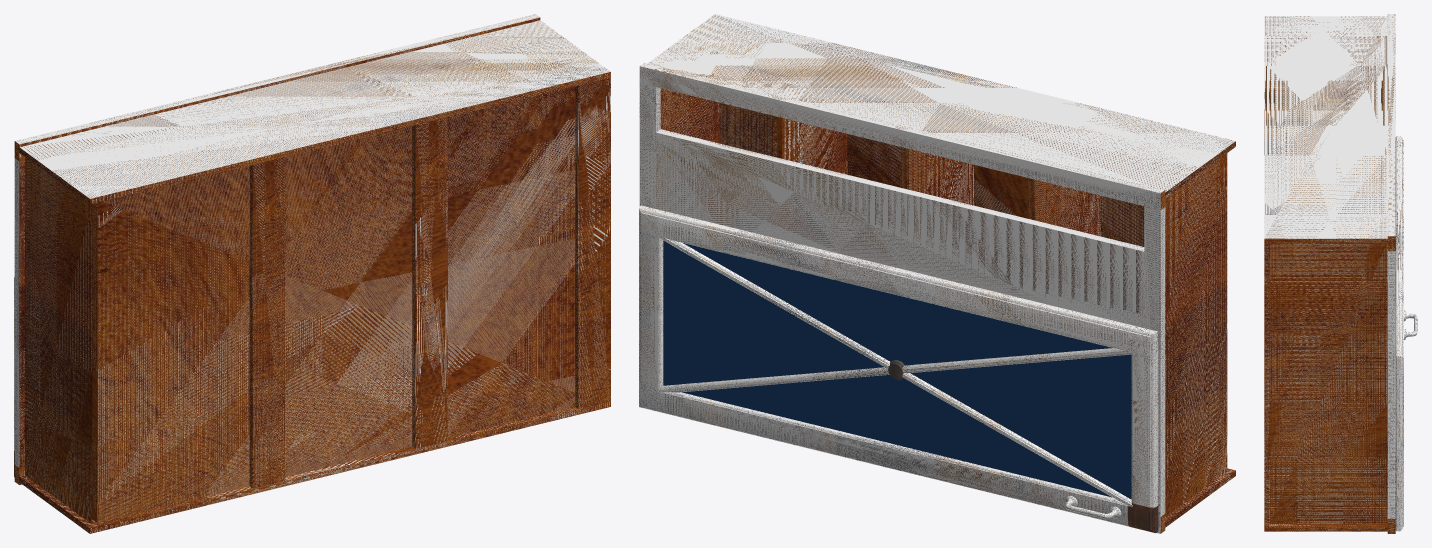
3 views of the same model, side by side, from view 1: azimuth 30°, elevation 25°; view 2: azimuth 150°, elevation 25°; view 3: azimuth 270°, elevation 25° (orthographic). The views are drawn at different scales.
Visible parts, largest first — view 1: mesh6_mesh6-geometry, mesh8_mesh8-geometry, mesh3_mesh3-geometry, mesh1_mesh1-geometry, mesh7_mesh7-geometry, mesh9_mesh9-geometry, mesh4_mesh4-geometry, mesh2_mesh2-geometry, mesh50_mesh50-geometry; view 2: mesh48_mesh48-geometry, mesh11_mesh11-geometry, mesh8_mesh8-geometry, mesh1_mesh1-geometry, mesh20_mesh20-geometry, mesh9_mesh9-geometry, mesh19_mesh19-geometry, mesh12_mesh12-geometry, mesh5_mesh5-geometry, mesh4_mesh4-geometry, mesh46_mesh46-geometry, mesh18_mesh18-geometry (+6 smaller); view 3: mesh2_mesh2-geometry, mesh8_mesh8-geometry, mesh4_mesh4-geometry, mesh9_mesh9-geometry, mesh20_mesh20-geometry, mesh3_mesh3-geometry, mesh17_mesh17-geometry, mesh7_mesh7-geometry, mesh14_mesh14-geometry, mesh21_mesh21-geometry, mesh13_mesh13-geometry.
Boxes of the visible parts, x1=… form: mesh6_mesh6-geometry: x1=97, y1=86, x2=575, y2=523; mesh8_mesh8-geometry: x1=19, y1=20, x2=610, y2=204; mesh3_mesh3-geometry: x1=249, y1=77, x2=610, y2=488; mesh1_mesh1-geometry: x1=25, y1=157, x2=92, y2=524; mesh7_mesh7-geometry: x1=19, y1=401, x2=610, y2=533; mesh9_mesh9-geometry: x1=14, y1=14, x2=540, y2=161; mesh4_mesh4-geometry: x1=14, y1=158, x2=24, y2=467; mesh2_mesh2-geometry: x1=92, y1=203, x2=97, y2=522; mesh50_mesh50-geometry: x1=385, y1=345, x2=411, y2=452; mesh48_mesh48-geometry: x1=663, y1=241, x2=1131, y2=499; mesh11_mesh11-geometry: x1=656, y1=129, x2=1144, y2=327; mesh8_mesh8-geometry: x1=647, y1=14, x2=1235, y2=197; mesh1_mesh1-geometry: x1=660, y1=88, x2=1227, y2=516; mesh20_mesh20-geometry: x1=663, y1=211, x2=1131, y2=350; mesh9_mesh9-geometry: x1=639, y1=63, x2=1165, y2=210; mesh19_mesh19-geometry: x1=663, y1=392, x2=1128, y2=526; mesh12_mesh12-geometry: x1=774, y1=116, x2=1100, y2=236; mesh5_mesh5-geometry: x1=720, y1=103, x2=1144, y2=246; mesh4_mesh4-geometry: x1=639, y1=83, x2=1165, y2=516; mesh46_mesh46-geometry: x1=658, y1=236, x2=1132, y2=506; mesh18_mesh18-geometry: x1=1131, y1=355, x2=1158, y2=507; mesh2_mesh2-geometry: x1=1269, y1=243, x2=1387, y2=524; mesh8_mesh8-geometry: x1=1264, y1=16, x2=1387, y2=243; mesh4_mesh4-geometry: x1=1387, y1=251, x2=1395, y2=518; mesh9_mesh9-geometry: x1=1387, y1=14, x2=1395, y2=250; mesh20_mesh20-geometry: x1=1395, y1=147, x2=1403, y2=348; mesh3_mesh3-geometry: x1=1264, y1=243, x2=1269, y2=526; mesh17_mesh17-geometry: x1=1395, y1=378, x2=1403, y2=508; mesh7_mesh7-geometry: x1=1264, y1=524, x2=1387, y2=531; mesh14_mesh14-geometry: x1=1395, y1=345, x2=1403, y2=379; mesh21_mesh21-geometry: x1=1404, y1=310, x2=1417, y2=339; mesh13_mesh13-geometry: x1=1395, y1=507, x2=1403, y2=531.
Bounding box in the file's own units: 0.8232 × 0.5145 × 0.2401.
